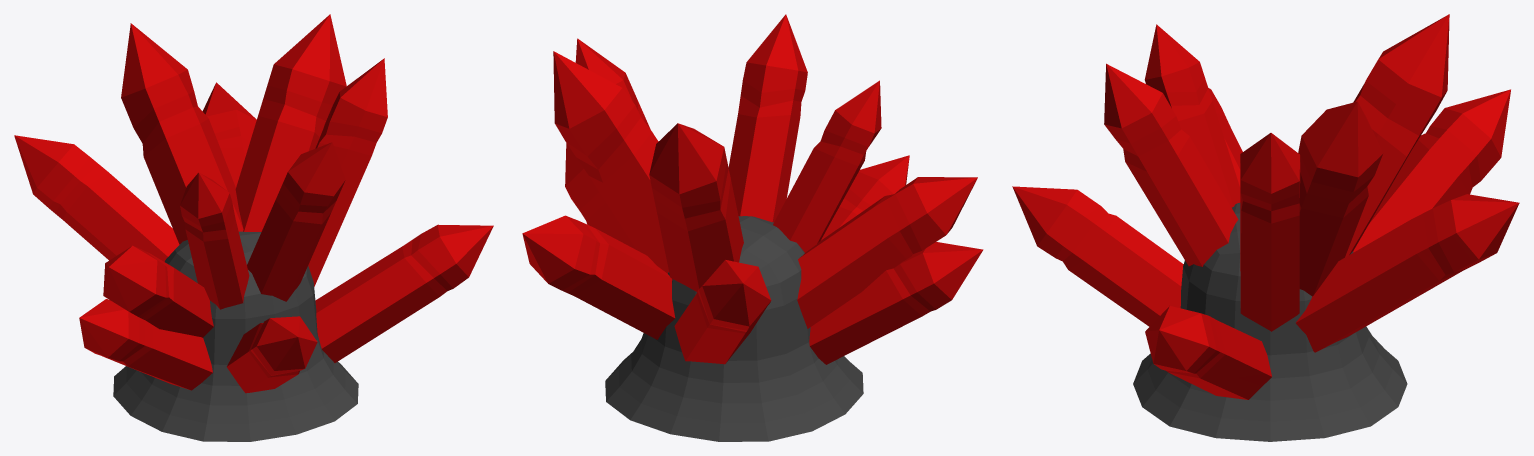
File: mine5.glb
The picture shows the model from 3 angles, left to right: view 1: azimuth 30°, elevation 25°; view 2: azimuth 150°, elevation 25°; view 3: azimuth 270°, elevation 25°; orthographic projection. The views are drawn at different scales.
Visible parts, largest first — view 1: Mineral.003; view 2: Mineral.003; view 3: Mineral.003.
Part boxes in pixels (bbox=[...]): Mineral.003: bbox=[14, 14, 493, 441]; Mineral.003: bbox=[522, 14, 983, 441]; Mineral.003: bbox=[1012, 14, 1519, 441].
Bounding box in the file's own units: 3.04 × 2.26 × 2.92.
